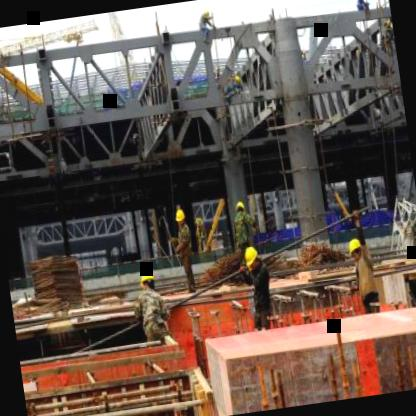helmet: (344, 231, 367, 272), (136, 267, 158, 300), (244, 240, 262, 275), (172, 206, 186, 230), (233, 198, 247, 222)
